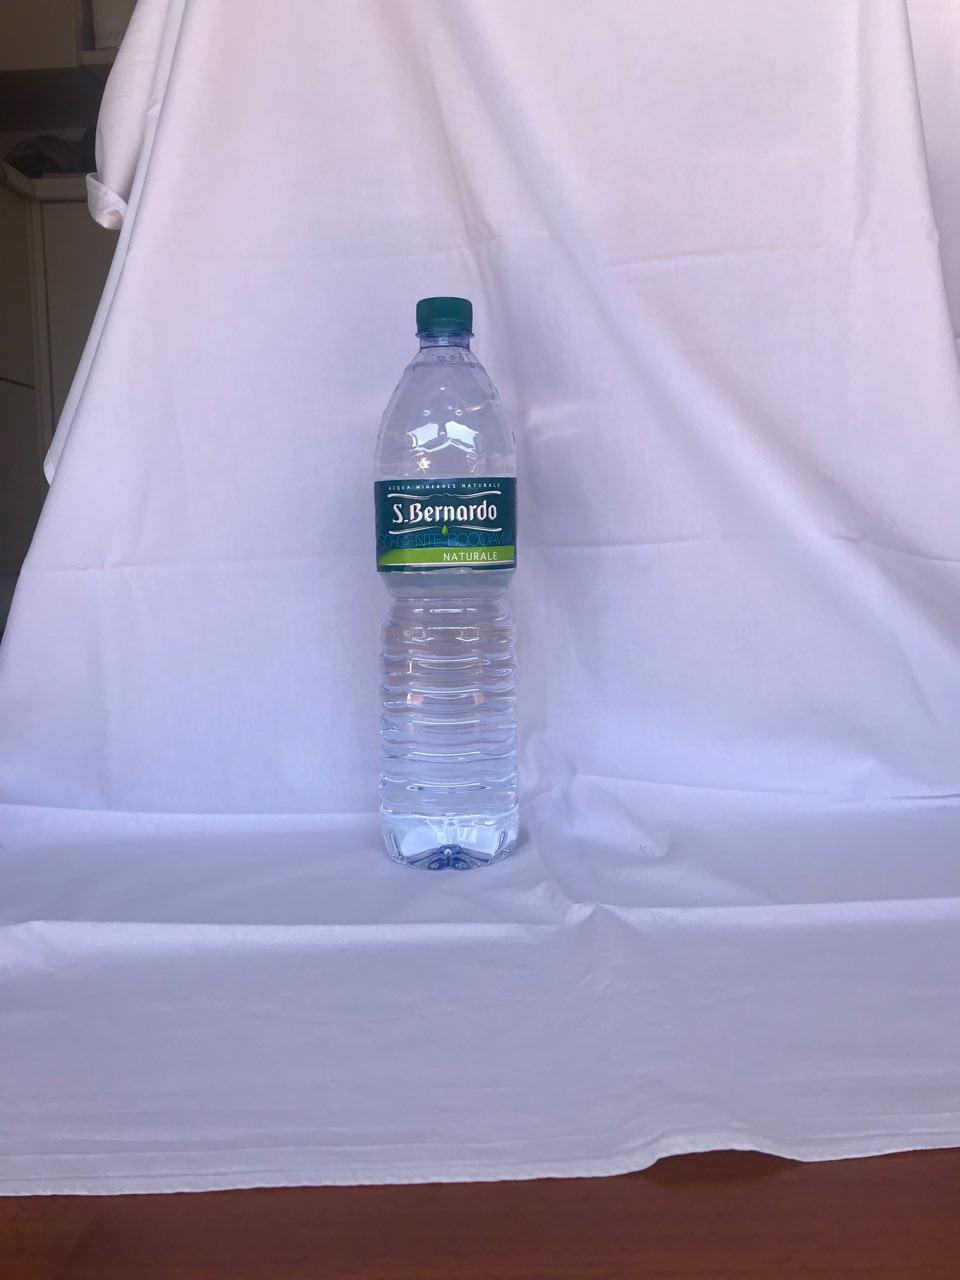san_bernardo: (371, 295, 519, 872)
